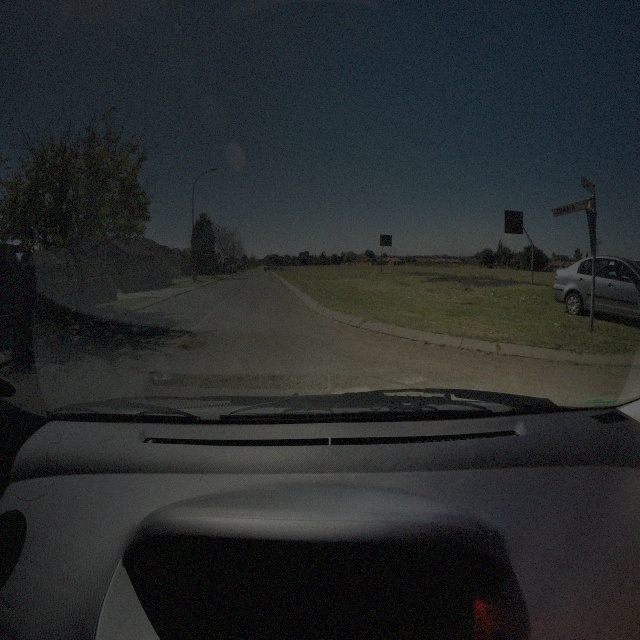pothole: (179, 337, 206, 352)
